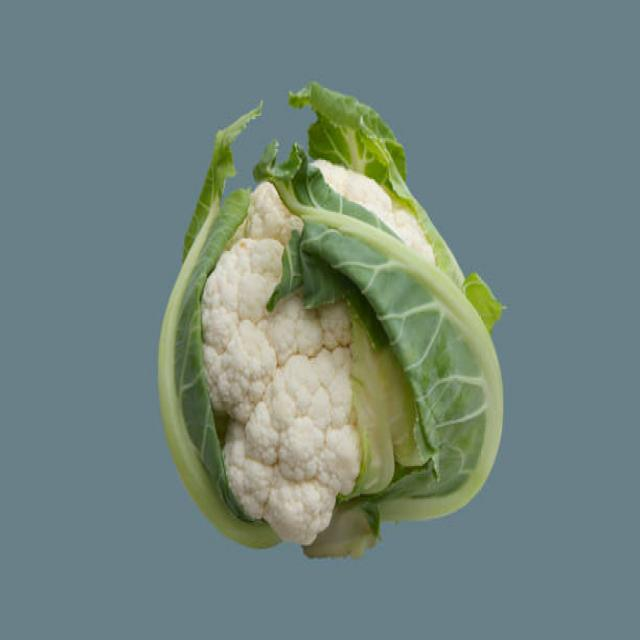cauliflower: (141, 82, 544, 574)
